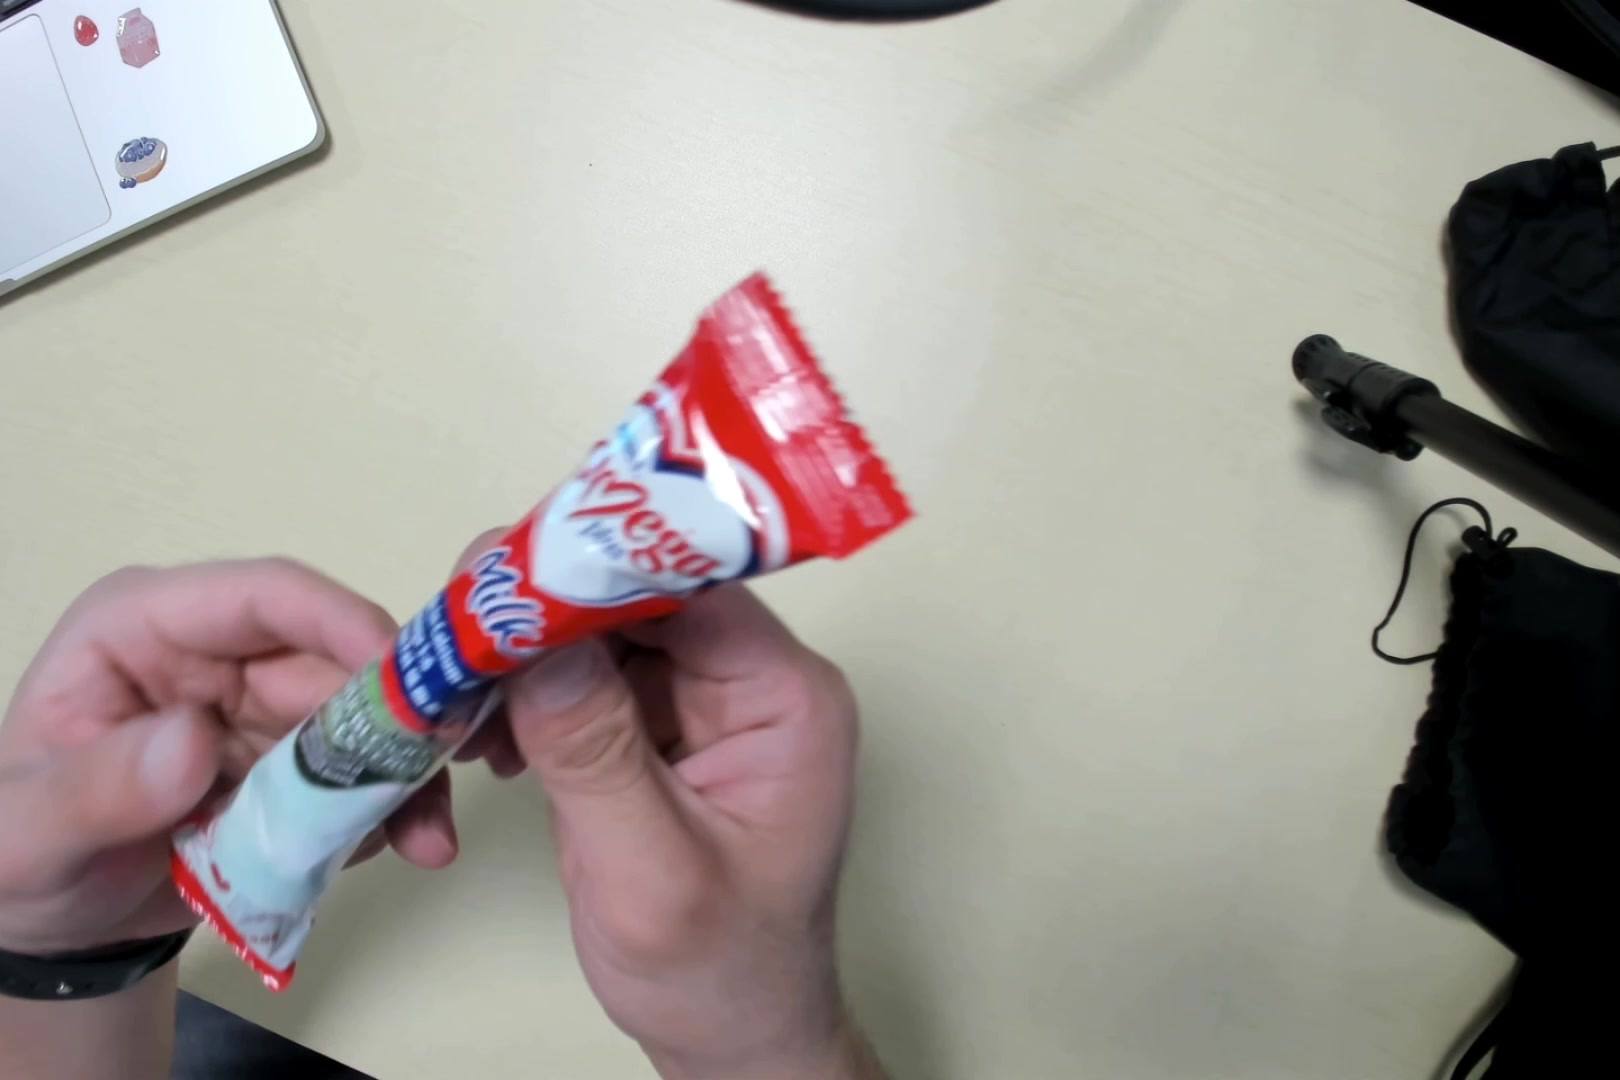MilkPowder_0-99g_Halal_NonHealthy: (183, 270, 905, 998)
